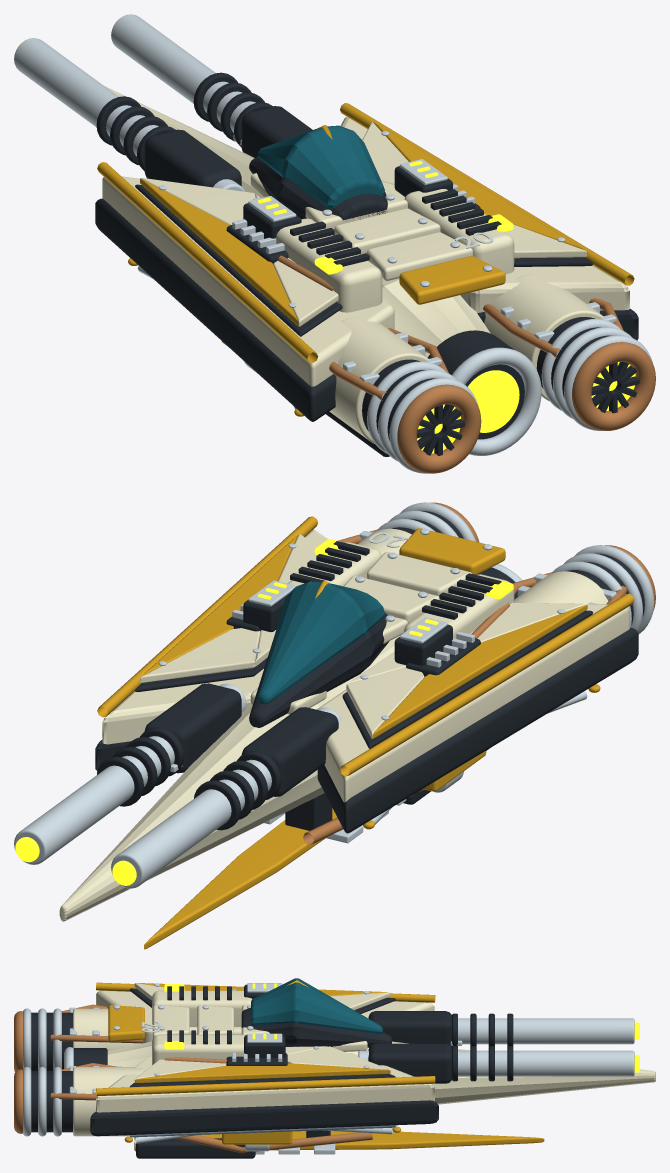
3 views of the same model, one above another, from view 1: azimuth 30°, elevation 25°; view 2: azimuth 150°, elevation 25°; view 3: azimuth 270°, elevation 25° (orthographic). The views are drawn at different scales.
Visible parts, largest first — view 1: SolidHull_20; view 2: SolidHull_20; view 3: SolidHull_20.
Part boxes in pixels (x1,y1,x2,y2): SolidHull_20: (14, 14, 655, 473); SolidHull_20: (14, 502, 655, 949); SolidHull_20: (14, 978, 655, 1158).
Size of the model in its own units: 1.69 by 1.17 by 4.18.
